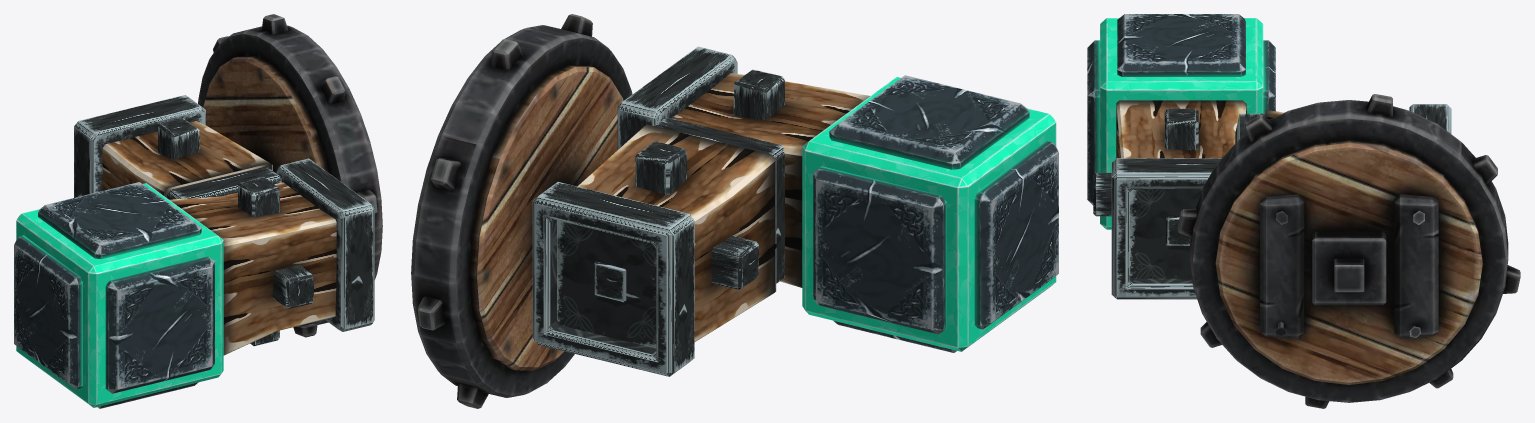
The model's file is step_004.glb.
3 renders of one model, left to right at view 1: azimuth 30°, elevation 25°; view 2: azimuth 150°, elevation 25°; view 3: azimuth 270°, elevation 25°, orthographic. The views are drawn at different scales.
Parts seen in each view (by area): view 1: StartingBlock_beb463e0-e38e-4283-9f8d-3c1a5f7bec4b, SingleWoodenBlock_6f8f13db-8b17-485e-9bcf-0093a11caa24, Wheel_0ed3bb30-655d-468e-a69c-f4508b84b864; view 2: SingleWoodenBlock_6f8f13db-8b17-485e-9bcf-0093a11caa24, StartingBlock_beb463e0-e38e-4283-9f8d-3c1a5f7bec4b, Wheel_0ed3bb30-655d-468e-a69c-f4508b84b864; view 3: Wheel_0ed3bb30-655d-468e-a69c-f4508b84b864, SingleWoodenBlock_6f8f13db-8b17-485e-9bcf-0093a11caa24, StartingBlock_beb463e0-e38e-4283-9f8d-3c1a5f7bec4b.
Boxes of the visible parts, x1,y1,x2,y2 form: StartingBlock_beb463e0-e38e-4283-9f8d-3c1a5f7bec4b: (14, 182, 223, 408); SingleWoodenBlock_6f8f13db-8b17-485e-9bcf-0093a11caa24: (74, 95, 374, 355); Wheel_0ed3bb30-655d-468e-a69c-f4508b84b864: (198, 14, 382, 337); SingleWoodenBlock_6f8f13db-8b17-485e-9bcf-0093a11caa24: (532, 46, 869, 376); StartingBlock_beb463e0-e38e-4283-9f8d-3c1a5f7bec4b: (802, 75, 1058, 352); Wheel_0ed3bb30-655d-468e-a69c-f4508b84b864: (411, 14, 632, 408); Wheel_0ed3bb30-655d-468e-a69c-f4508b84b864: (1177, 94, 1520, 408); SingleWoodenBlock_6f8f13db-8b17-485e-9bcf-0093a11caa24: (1093, 100, 1451, 299); StartingBlock_beb463e0-e38e-4283-9f8d-3c1a5f7bec4b: (1087, 14, 1275, 229).
Bounding box in the file's own units: 2.76 × 2.05 × 2.59.
3 materials, 3 textured.
